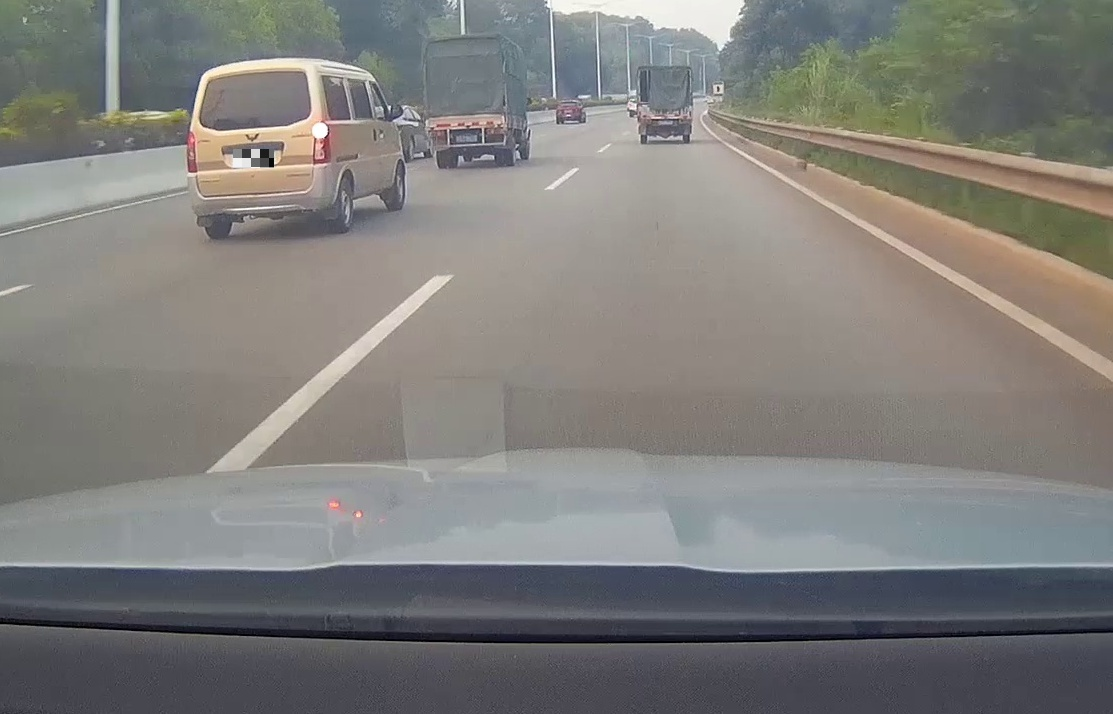L_light: (185, 131, 198, 173), (430, 131, 444, 137), (642, 118, 650, 124)
R_light: (311, 120, 331, 165), (487, 127, 503, 134), (679, 119, 689, 124)
T_light: (242, 72, 262, 77), (463, 122, 472, 126), (661, 115, 671, 118)
day-no: (421, 31, 509, 168), (635, 64, 693, 144)
day-right: (184, 57, 339, 240)
plate_1: (233, 149, 274, 168)
